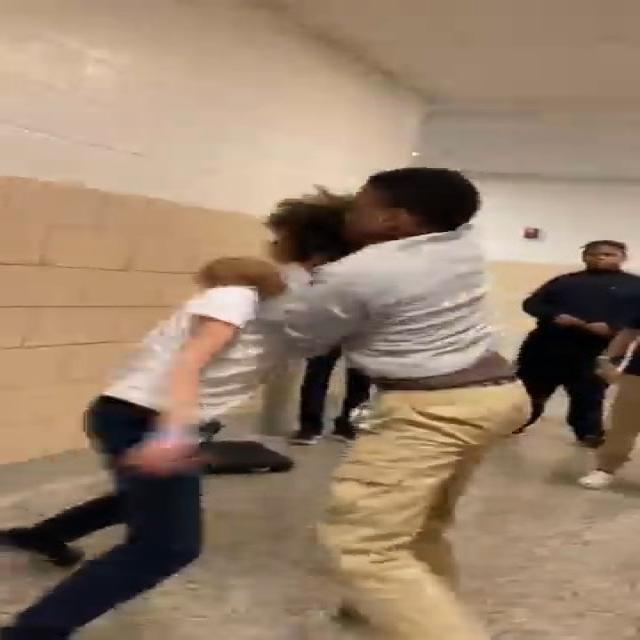fight: (76, 164, 498, 640)
